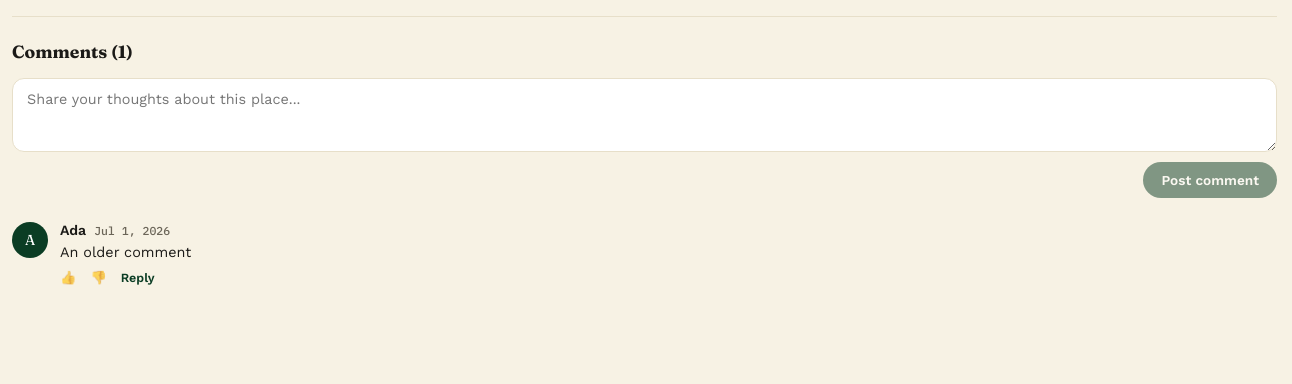
Test: CommentSection › submits a new comment and prepends it to the list
Expected: the text "An older comment" is shown, top-left (60, 244), bottom-right (191, 260)
Step 1. Type "Amazing place to visit." into the text box with placeholder "Share your thoughts about this place..." → (644, 115), box top-left (12, 78), bottom-right (1277, 152)
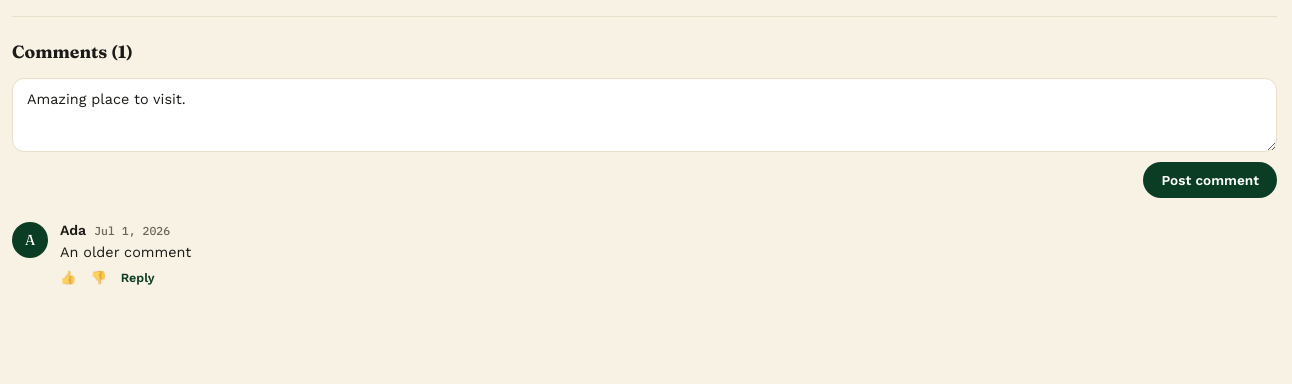
Step 2. Click the button "Post comment" → (1210, 180), box top-left (1144, 162), bottom-right (1277, 198)
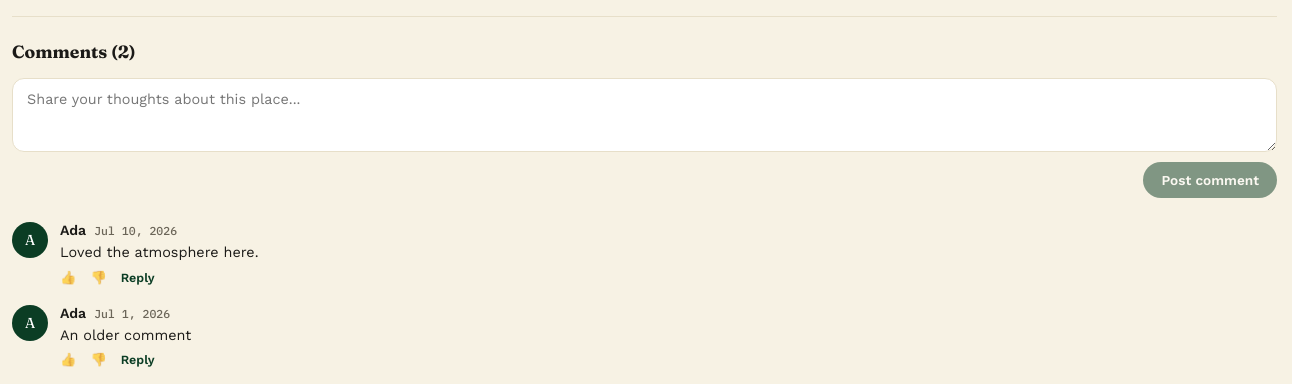
Expected: the list item "A Ada Jul 1, 2026 An older comment 👍 👎 Reply" is shown, top-left (12, 305), bottom-right (191, 367)
Expected: the list item "A Ada Jul 10, 2026 Loved the atmosphere here. 👍 👎 Reply" is shown, top-left (12, 222), bottom-right (258, 285)
